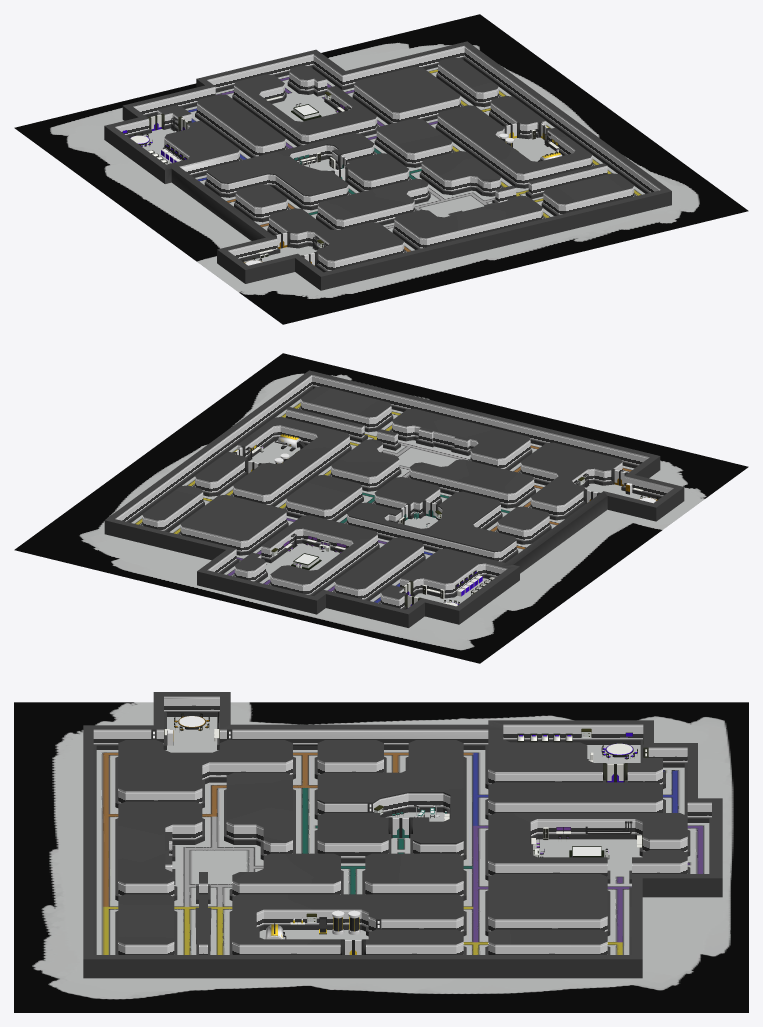
The model's file is MapaCompleto2.fbx.
The picture shows the model from 3 angles, top to bottom: view 1: azimuth 30°, elevation 25°; view 2: azimuth 150°, elevation 25°; view 3: azimuth 270°, elevation 25°; orthographic projection. The views are drawn at different scales.
Visible parts, largest first — view 1: Parede, Chão; view 2: Parede, Chão; view 3: Parede, Chão.
Boxes of the visible parts, x1,y1,x2,y2 form: Parede: (104, 41, 671, 290); Chão: (14, 14, 748, 324); Parede: (104, 370, 684, 627); Chão: (14, 353, 748, 663); Parede: (83, 692, 722, 978); Chão: (14, 702, 748, 1012).
Size of the model in its own units: 10487 by 300 by 10487.
